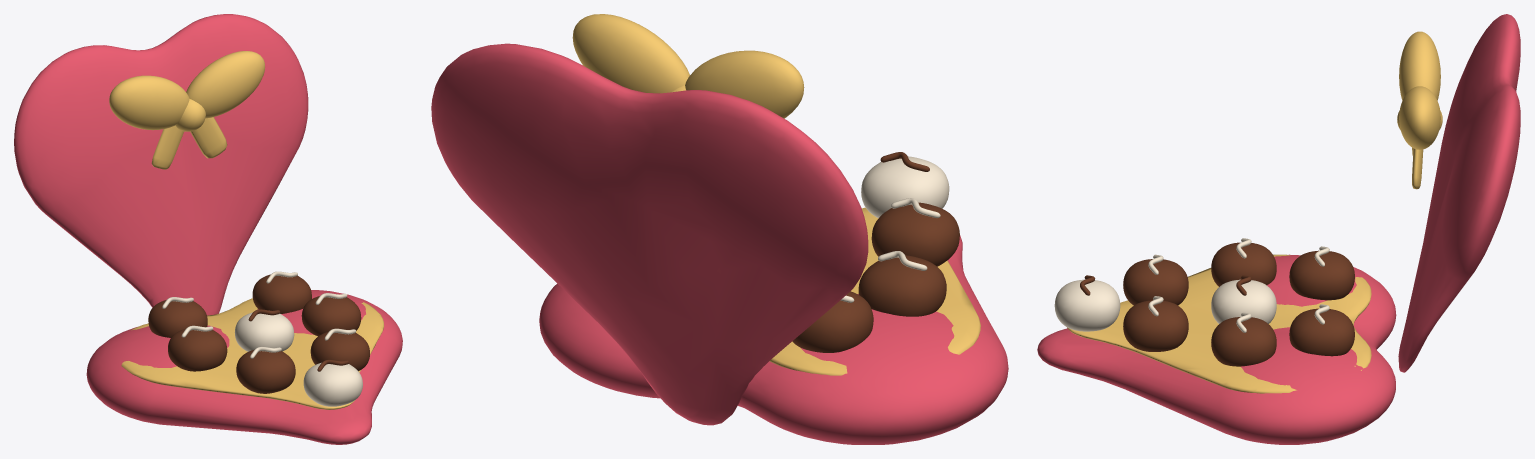
File: regalo_chocolates.glb
3 renders of one model, left to right at view 1: azimuth 30°, elevation 25°; view 2: azimuth 150°, elevation 25°; view 3: azimuth 270°, elevation 25°, orthographic. The views are drawn at different scales.
Visible parts, largest first — view 1: tapa corazón, caja corazón, fondo dorado, oreja moño.002, oreja moño.003, bombón 3, bombón 5, bombón 0, bombón 1, bombón 7, bombón 2, bombón 4 (+4 smaller); view 2: tapa corazón, caja corazón, oreja moño.003, oreja moño.002, bombón 0, fondo dorado, bombón 3, bombón 5, bombón 6; view 3: caja corazón, tapa corazón, fondo dorado, bombón 5, bombón 4, bombón 6, bombón 2, bombón 7, bombón 3, bombón 1, bombón 0, oreja moño.002 (+1 smaller).
Boxes of the visible parts, bbox=[...] form: tapa corazón: bbox=[14, 14, 308, 315]; caja corazón: bbox=[86, 290, 402, 444]; fondo dorado: bbox=[121, 298, 384, 409]; oreja moño.002: bbox=[109, 75, 189, 130]; oreja moño.003: bbox=[186, 51, 265, 118]; bombón 3: bbox=[236, 349, 295, 393]; bombón 5: bbox=[303, 362, 362, 406]; bombón 0: bbox=[168, 328, 227, 371]; bombón 1: bbox=[234, 312, 294, 351]; bombón 7: bbox=[252, 274, 311, 313]; bombón 2: bbox=[301, 296, 361, 336]; bombón 4: bbox=[310, 331, 369, 371]; tapa corazón: bbox=[431, 43, 868, 425]; caja corazón: bbox=[539, 235, 1008, 444]; oreja moño.003: bbox=[572, 14, 689, 93]; oreja moño.002: bbox=[685, 50, 804, 118]; bombón 0: bbox=[858, 255, 946, 316]; fondo dorado: bbox=[769, 207, 980, 375]; bombón 3: bbox=[871, 202, 959, 266]; bombón 5: bbox=[861, 156, 949, 218]; bombón 6: bbox=[792, 291, 873, 352]; caja corazón: bbox=[1037, 254, 1396, 444]; tapa corazón: bbox=[1398, 14, 1520, 372]; fondo dorado: bbox=[1067, 254, 1371, 393]; bombón 5: bbox=[1054, 279, 1120, 331]; bombón 4: bbox=[1123, 300, 1188, 351]; bombón 6: bbox=[1289, 250, 1354, 300]; bombón 2: bbox=[1211, 317, 1276, 366]; bombón 7: bbox=[1289, 308, 1354, 356]; bombón 3: bbox=[1123, 259, 1188, 305]; bombón 1: bbox=[1211, 279, 1276, 323]; bombón 0: bbox=[1211, 242, 1276, 286]; oreja moño.002: bbox=[1399, 31, 1440, 100].
Size of the model in its own units: 0.3911 by 0.3712 by 0.4943.
